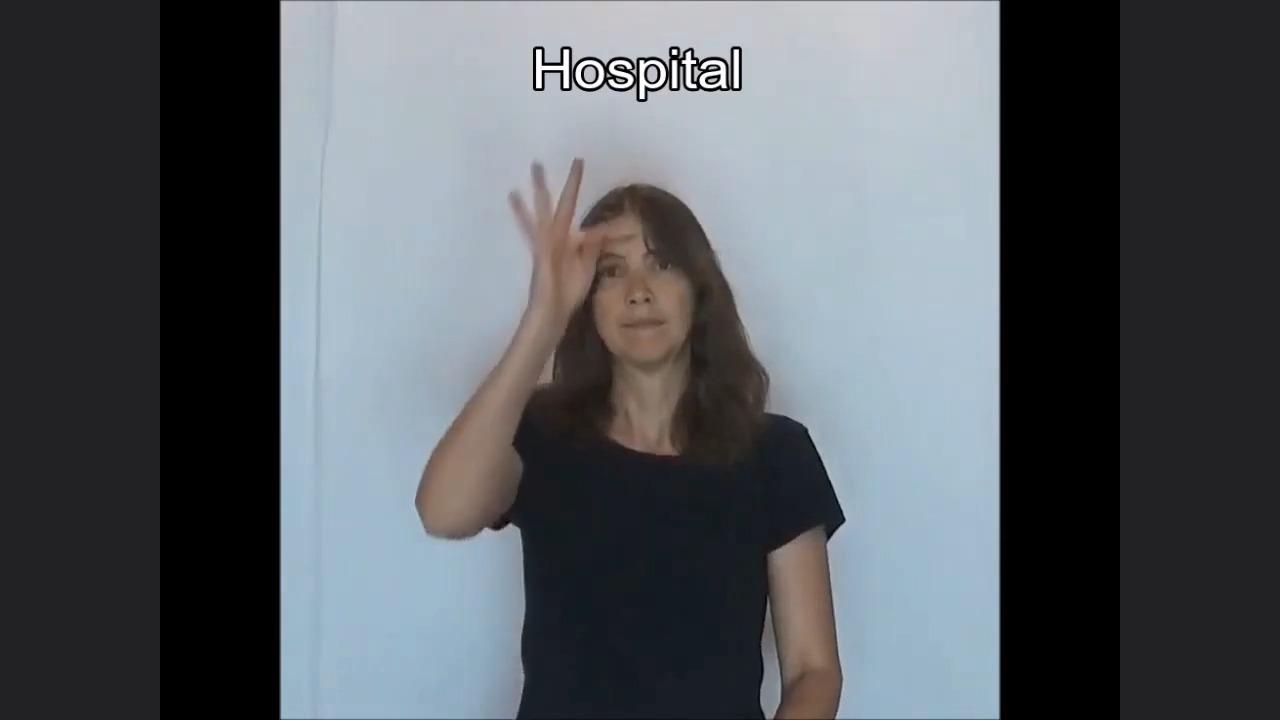Hospital: (376, 144, 909, 615)
